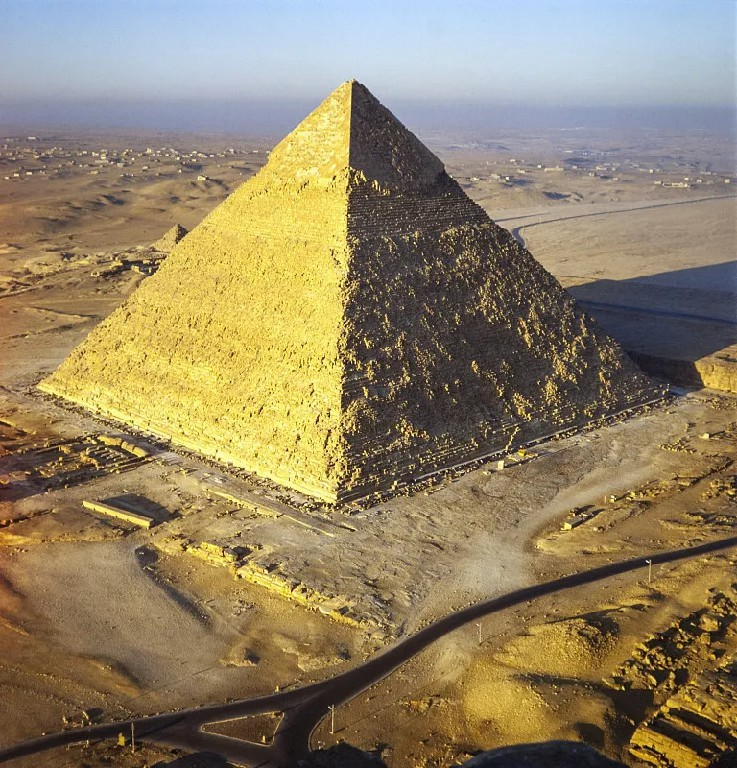Pyramid: (38, 78, 664, 502)
